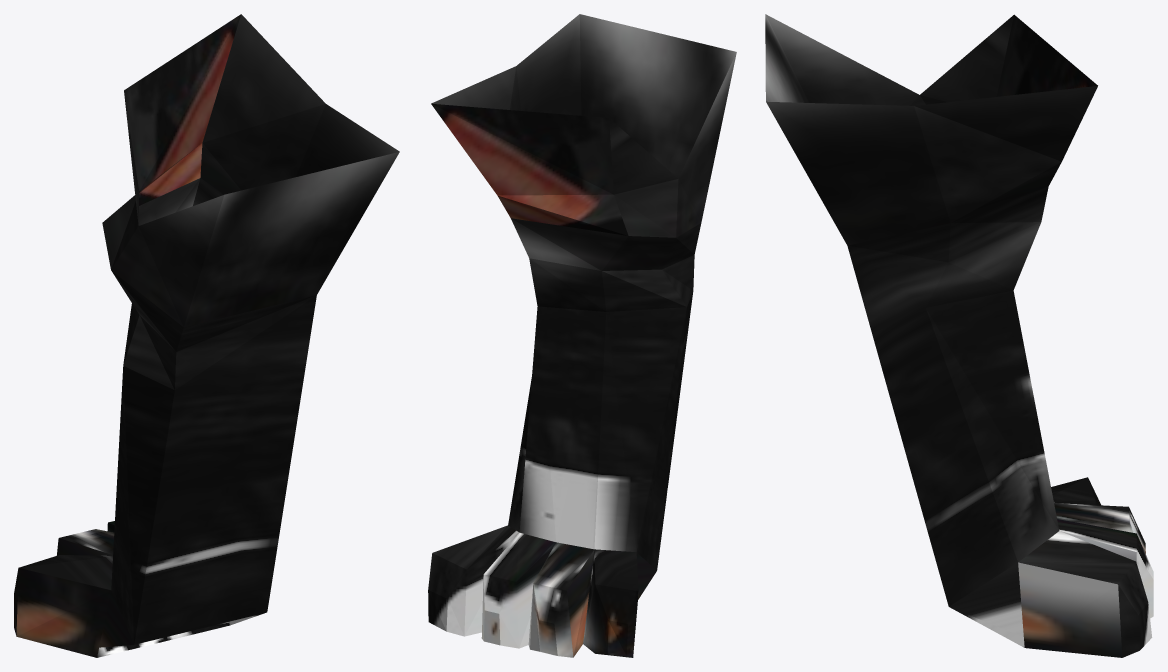
Rendered from Cat_LeftFront.obj.
3 views of the same model, side by side, from view 1: azimuth 30°, elevation 25°; view 2: azimuth 150°, elevation 25°; view 3: azimuth 270°, elevation 25° (orthographic). The views are drawn at different scales.
Visible parts, largest first — view 1: Cat_LeftFront; view 2: Cat_LeftFront; view 3: Cat_LeftFront.
Boxes of the visible parts, x1,y1,x2,y2 form: Cat_LeftFront: (14,14,399,657); Cat_LeftFront: (428,14,736,657); Cat_LeftFront: (765,14,1153,657).
Bounding box in the file's own units: 0.1861 × 0.4474 × 0.2689.
